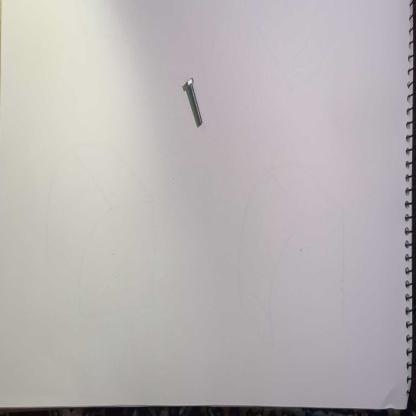Bolts: (180, 76, 204, 127)
